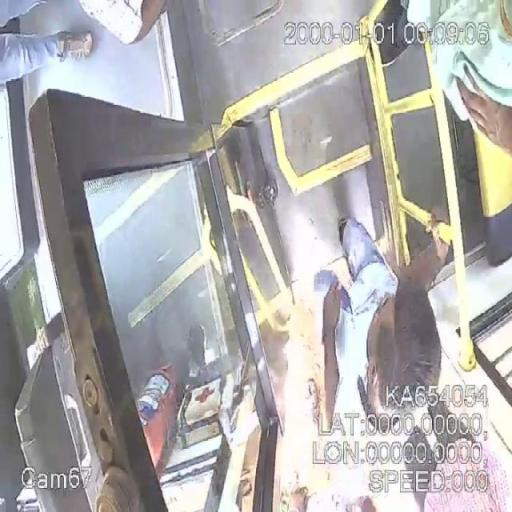persona: (315, 208, 507, 511), (430, 0, 511, 158)
